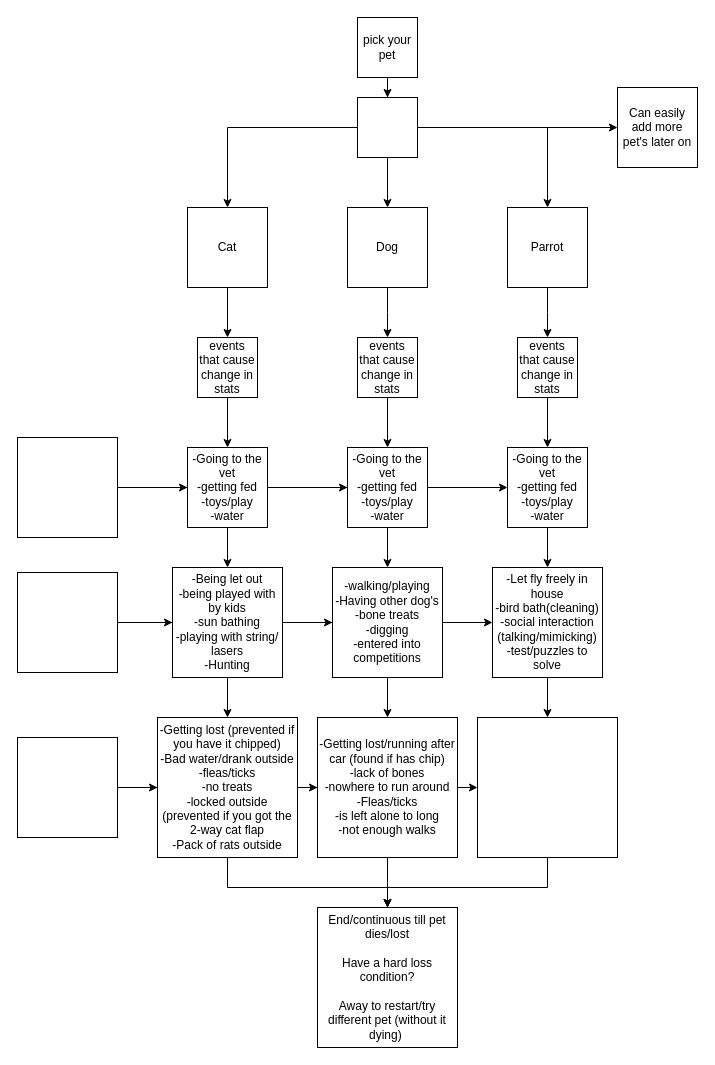
This 715x1065 diagram has some shape labels left out. The shapes that lost their labels are listed below. From the top down, each one's box as (x1, y1, x2, y2) in pixels, then its label:
(356, 96, 418, 158): pet name
(16, 436, 118, 538): Gerneric updates to the pet's -Health -Hunger -Happiness -Hydration
(16, 572, 118, 672): Events specific to the pet in question
(16, 736, 118, 838): Bad event's Some can be prevented depending on actions in the game
(476, 716, 618, 858): -flys away -feathers/wings clipped -lack of social care -has a cat -
